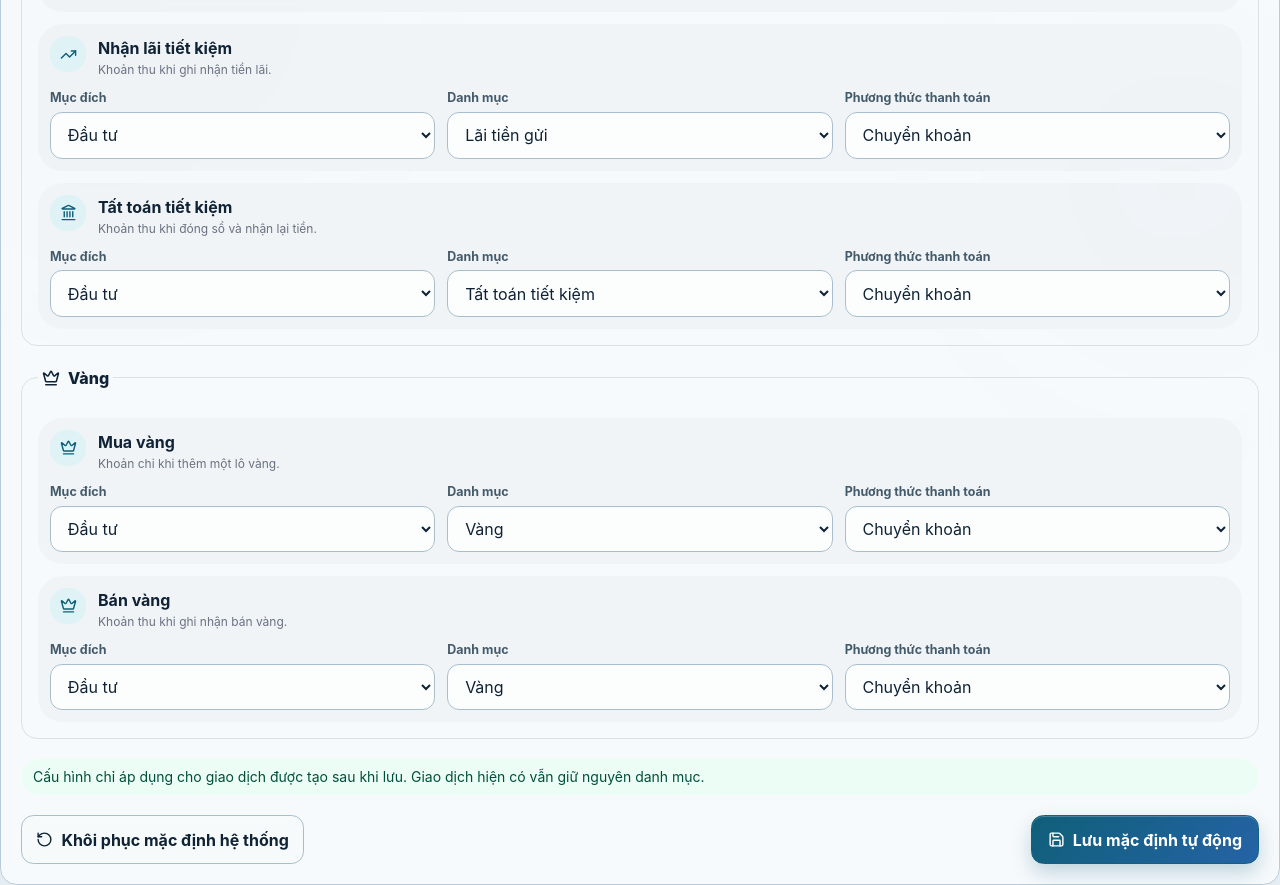
Scenario: cấu hình giao dịch tự động › cho owner cấu hình riêng mục đích, danh mục và phương thức thanh toán
(page scrolled)
expect the dropdown labelled "Danh mục" below "Khoản chi khi thêm một lô vàng." shows "Vàng": met, box [447,506,833,552]
expect the dropdown labelled "Danh mục" below "Khoản thu khi ghi nhận tiền lãi." shows "Lãi tiền gửi": met, box [447,112,833,159]
Select "Sinh hoạt gia đình" in the dropdown labelled "Mục đích" below "Khoản thu khi ghi nhận bán vàng.": (243, 687) [50,664,435,710]
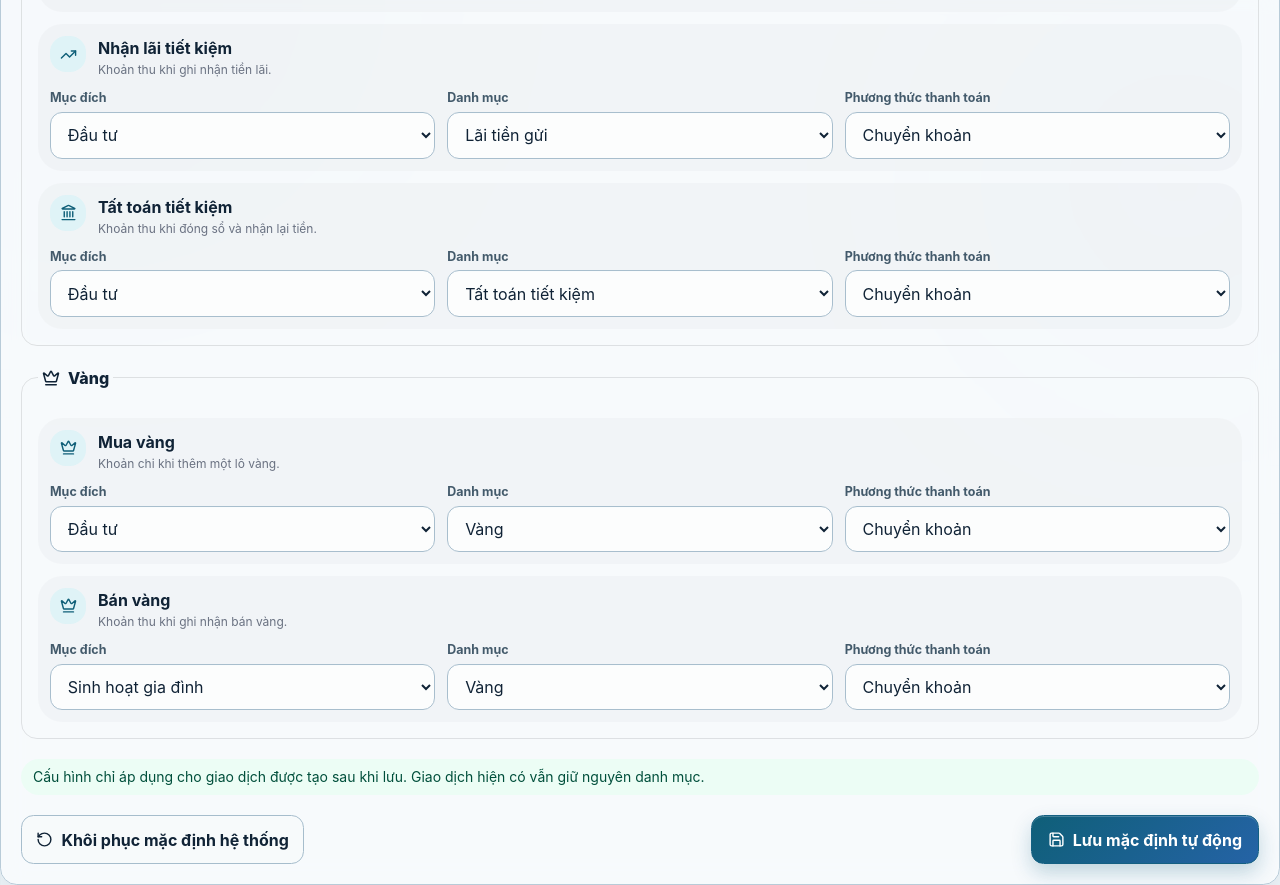
Select "Khác" in the dropdown labelled "Danh mục" below "Khoản thu khi ghi nhận bán vàng.": (640, 687) [447,664,833,710]
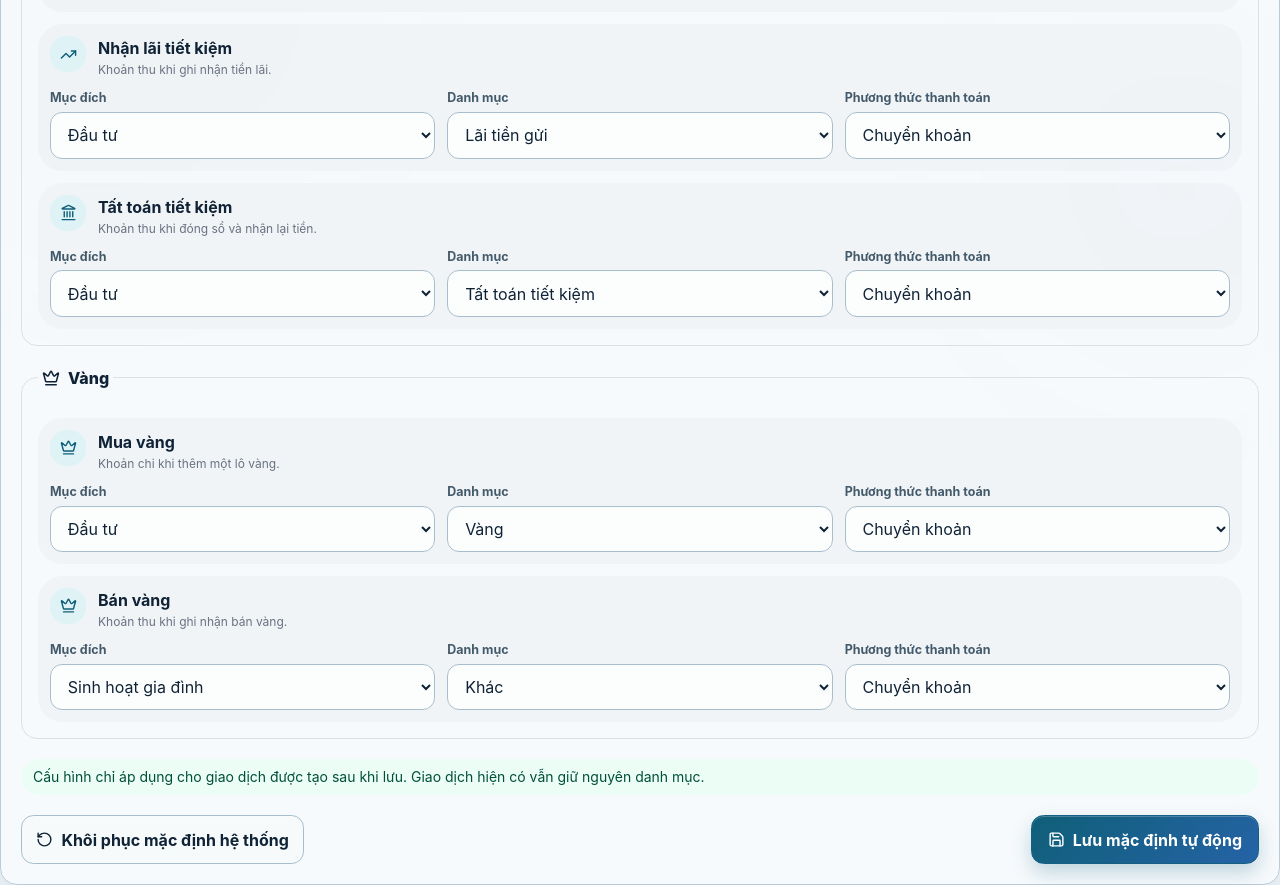
Select "Chuyển khoản" in the 5th dropdown labelled "Phương thức thanh toán": (1037, 687) [845,664,1230,710]
Click the button "Lưu mặc định tự động": (1145, 840) [1031,815,1259,864]
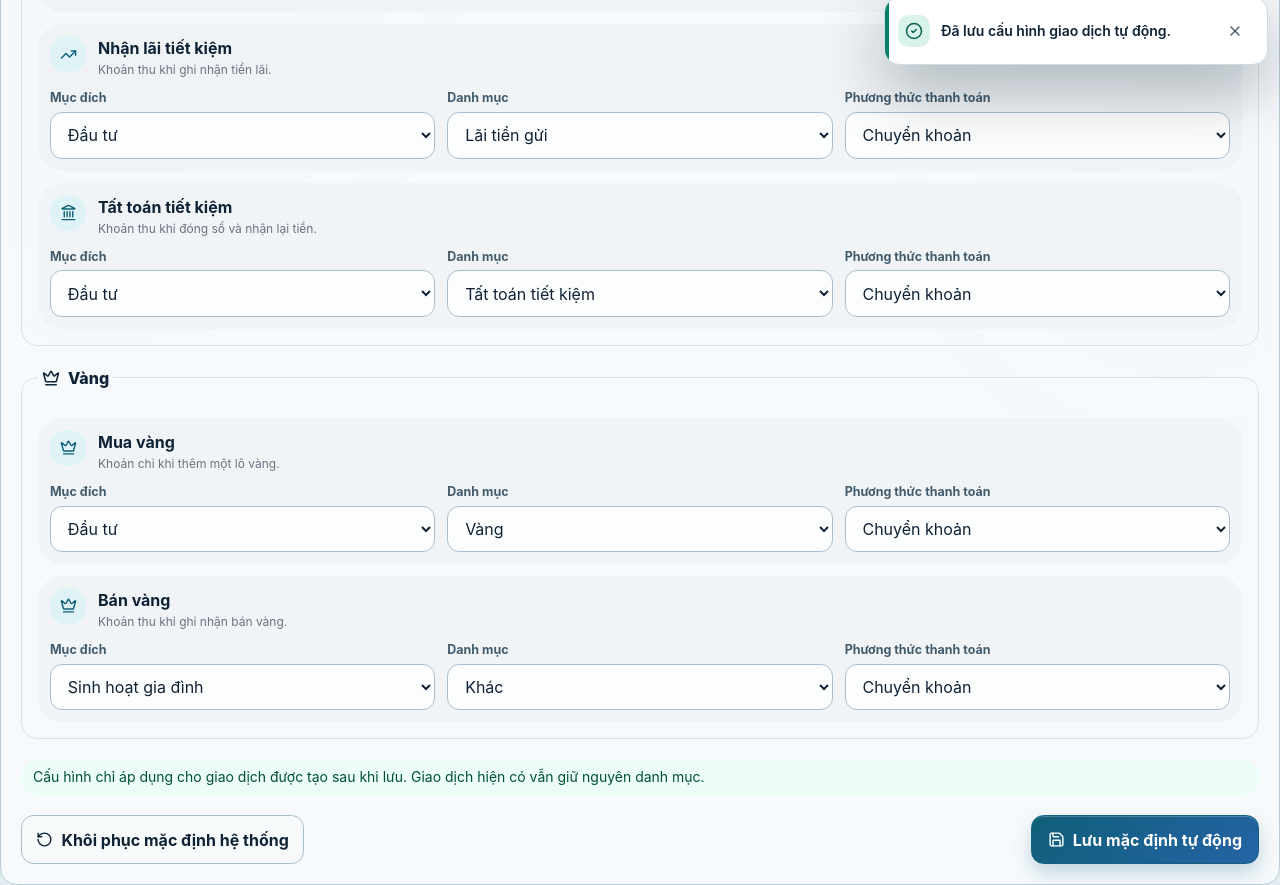
expect the text "Đã lưu cấu hình giao dịch tự động." is shown: met, box [941,21,1201,41]
